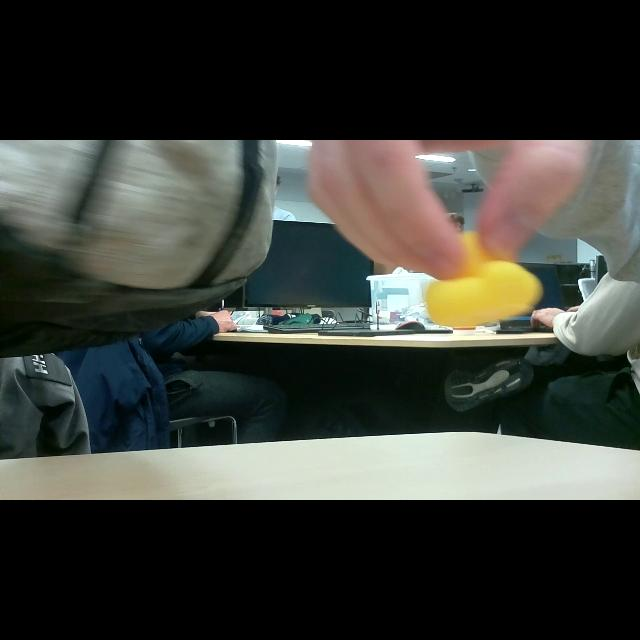duck_regular: (426, 233, 543, 329)
